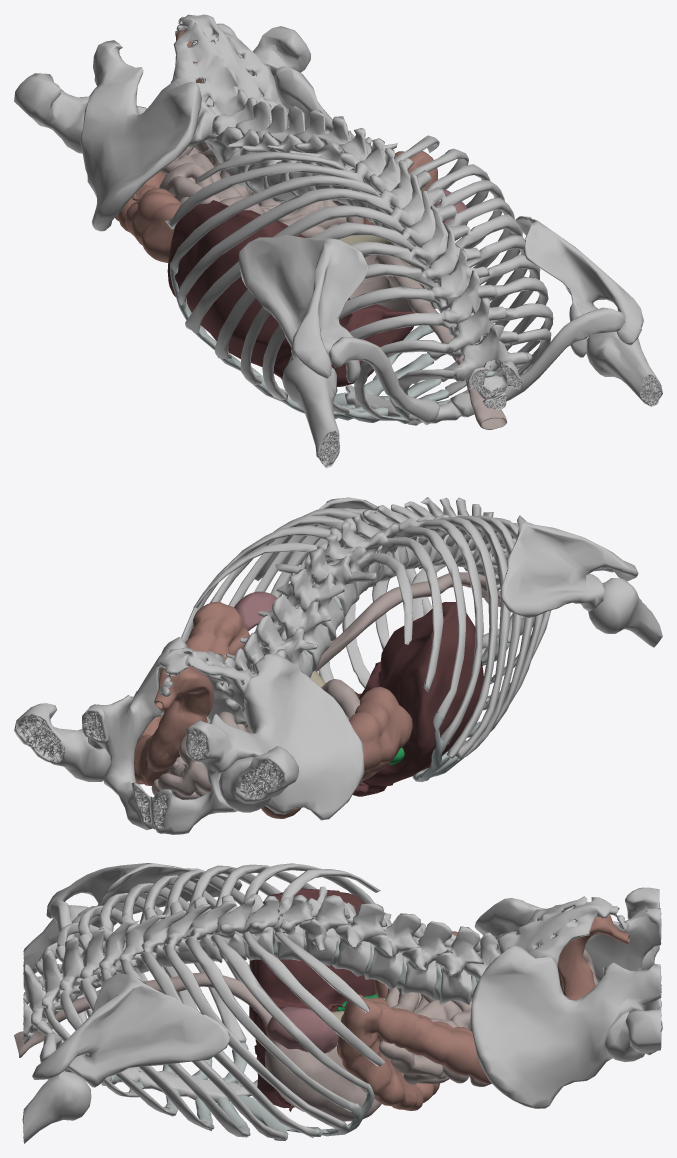
The model's file is maagdarmstelsel.glb.
3 views of the same model, one above another, from view 1: azimuth 30°, elevation 25°; view 2: azimuth 150°, elevation 25°; view 3: azimuth 270°, elevation 25° (orthographic). The views are drawn at different scales.
Visible parts, largest first — view 1: Botjes71, Lever, Dunne_darms, Dikke_darms, Botjes70; view 2: Botjes71, Dikke_darms, Lever, Dunne_darms, Botjes70, Milt; view 3: Botjes71, Dikke_darms, Dunne_darms, Lever, Botjes70, Milt, Botjes.
Boxes of the visible parts, box(x1,y1,x2,y2) form: Botjes71: box(14, 14, 662, 468); Lever: box(167, 200, 414, 386); Dunne_darms: box(159, 141, 506, 429); Dikke_darms: box(115, 30, 437, 262); Botjes70: box(170, 262, 468, 423); Botjes71: box(14, 497, 662, 834); Dikke_darms: box(134, 601, 412, 818); Lever: box(352, 602, 483, 796); Dunne_darms: box(151, 572, 500, 799); Botjes70: box(150, 636, 509, 829); Milt: box(234, 591, 277, 630); Botjes71: box(22, 863, 662, 1143); Dikke_darms: box(337, 914, 629, 1110); Dunne_darms: box(14, 949, 598, 1121); Lever: box(249, 888, 375, 1111); Botjes70: box(101, 1042, 374, 1140); Milt: box(266, 1006, 338, 1053); Botjes: box(41, 928, 476, 1021).
Size of the model in its own units: 384 by 268 by 682.
